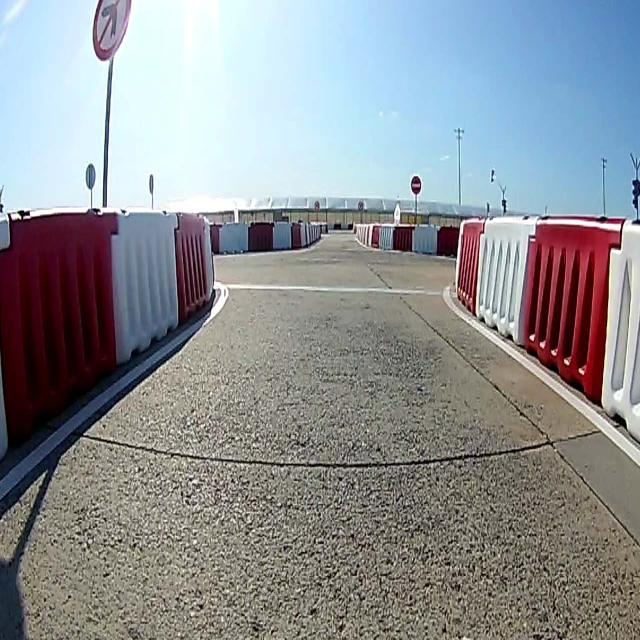girisyok: (410, 170, 422, 197)
soladonulmez: (92, 1, 136, 67)
